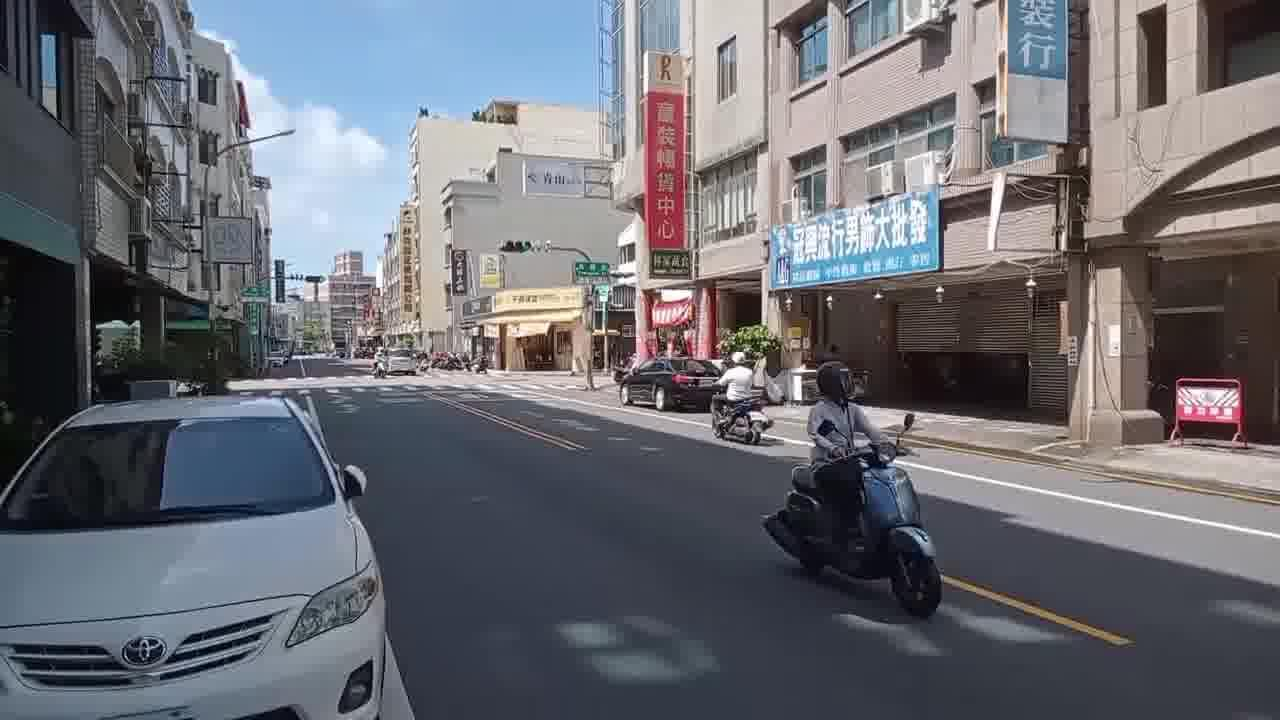driver: (752, 354, 958, 627), (707, 348, 779, 450)
helmet: (817, 360, 858, 409)
